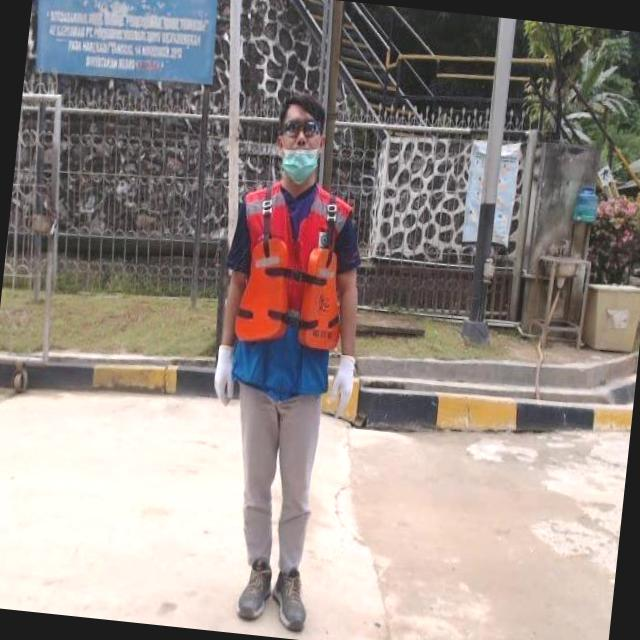gloves: (196, 339, 255, 416), (322, 352, 371, 424)
no-boots: (267, 564, 312, 636), (234, 556, 276, 625)
no-helmet: (258, 86, 346, 205)
vest: (223, 176, 354, 402)
